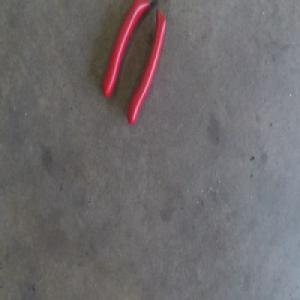Pliers: (101, 0, 169, 123)
